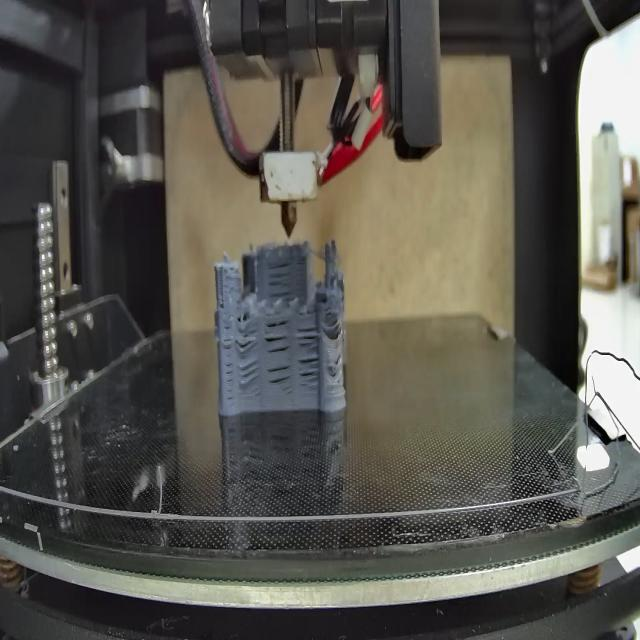cracks: (298, 321, 320, 388), (267, 261, 293, 299), (222, 326, 234, 405), (266, 319, 293, 353), (268, 361, 295, 394), (236, 320, 258, 354), (235, 359, 262, 385), (334, 351, 346, 373), (330, 316, 341, 338), (218, 295, 225, 314)
